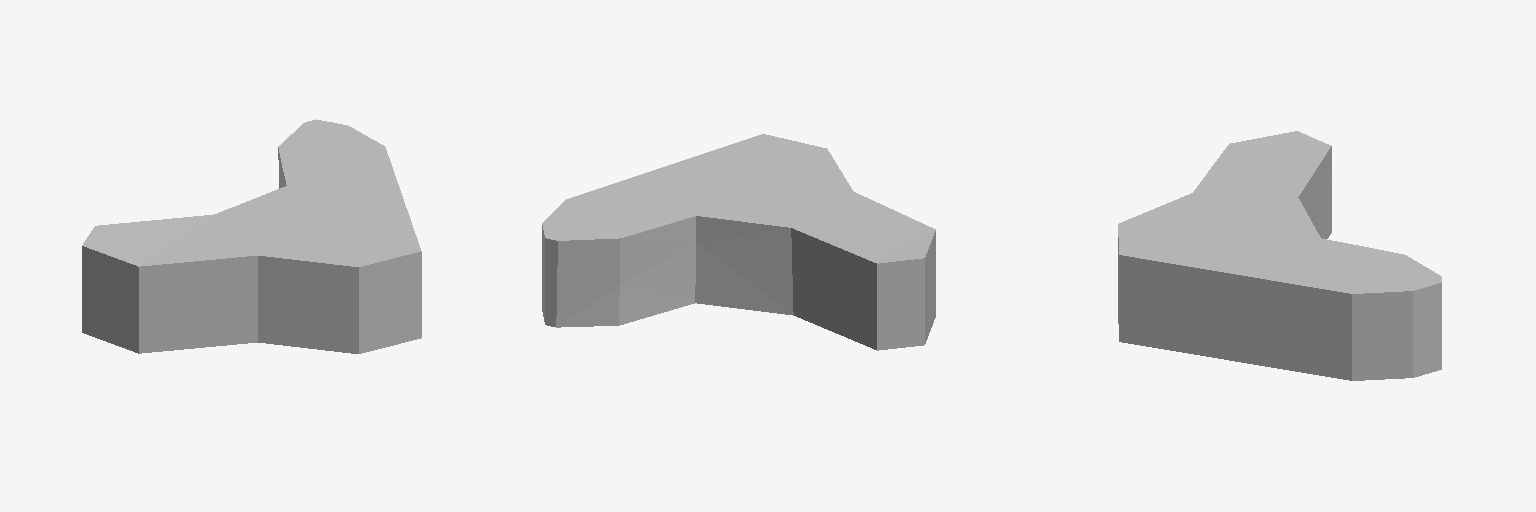
Rendered from bunnyBox.obj.
3 views of the same model, side by side, from view 1: azimuth 30°, elevation 25°; view 2: azimuth 150°, elevation 25°; view 3: azimuth 270°, elevation 25° (orthographic).
Visible parts, largest first — view 1: Cube; view 2: Cube; view 3: Cube.
Boxes of the visible parts, x1,y1,x2,y2 form: Cube: [82, 119, 421, 353]; Cube: [542, 134, 935, 350]; Cube: [1118, 131, 1441, 380].
Size of the model in its own units: 31.5 by 8.07 by 26.74.